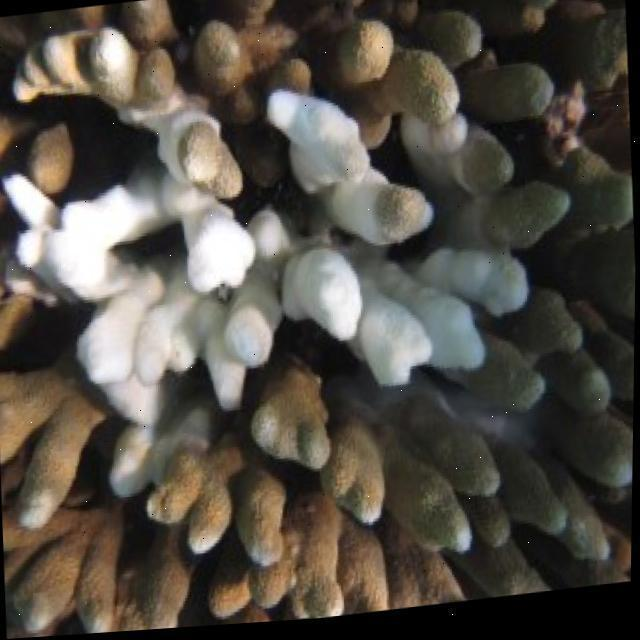Bleached Coral: (0, 65, 566, 502)
